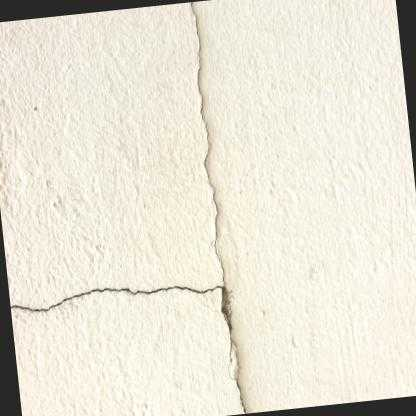crack: (9, 1, 244, 412)
